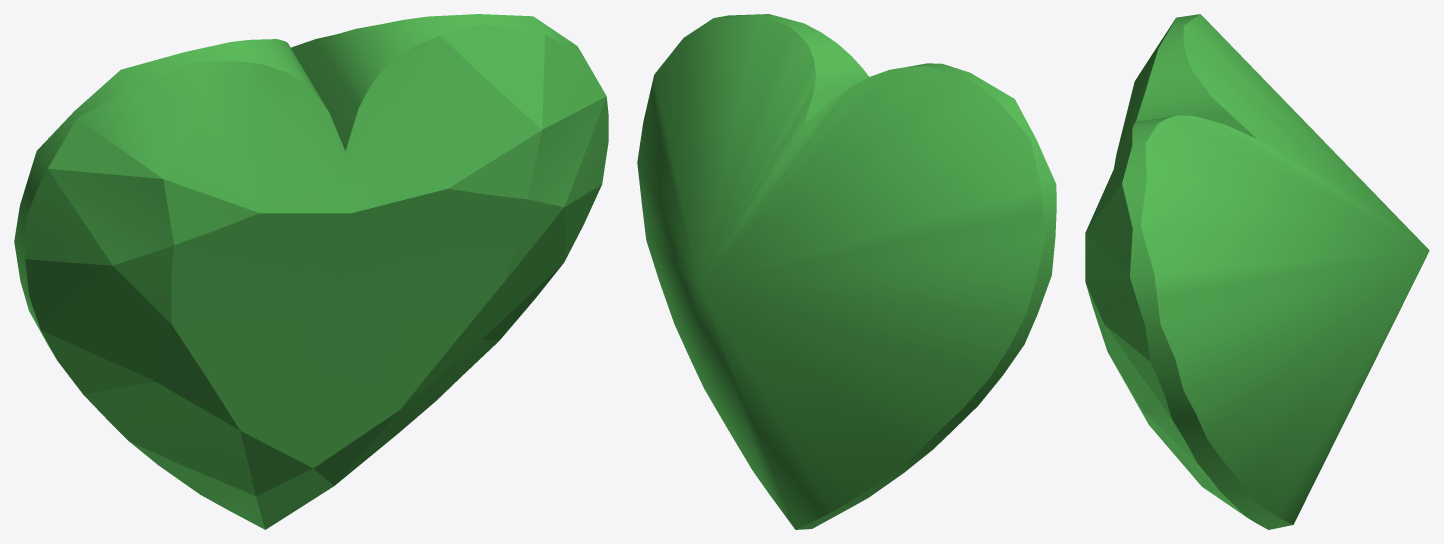
File: BL1_8shapes_heart_Classic_Stone.001 2.glb
3 views of the same model, side by side, from view 1: azimuth 30°, elevation 25°; view 2: azimuth 150°, elevation 25°; view 3: azimuth 270°, elevation 25° (orthographic). The views are drawn at different scales.
Visible parts, largest first — view 1: BL1_8shapes_heart_Classic_Stone.001; view 2: BL1_8shapes_heart_Classic_Stone.001; view 3: BL1_8shapes_heart_Classic_Stone.001.
Boxes of the visible parts, left/top/right/bottom form: BL1_8shapes_heart_Classic_Stone.001: left=14, top=14, right=608, bottom=529; BL1_8shapes_heart_Classic_Stone.001: left=637, top=14, right=1056, bottom=529; BL1_8shapes_heart_Classic_Stone.001: left=1085, top=14, right=1429, bottom=529.
Size of the model in its own units: 0.4327 by 0.4206 by 0.2911.
